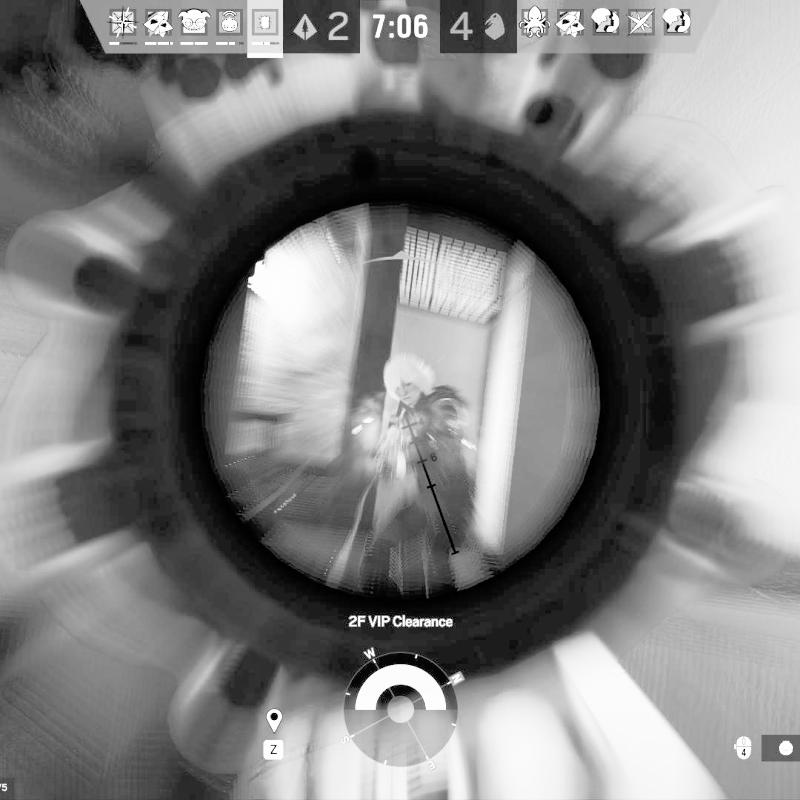Character: (356, 352, 480, 599)
Head: (383, 353, 434, 409)
